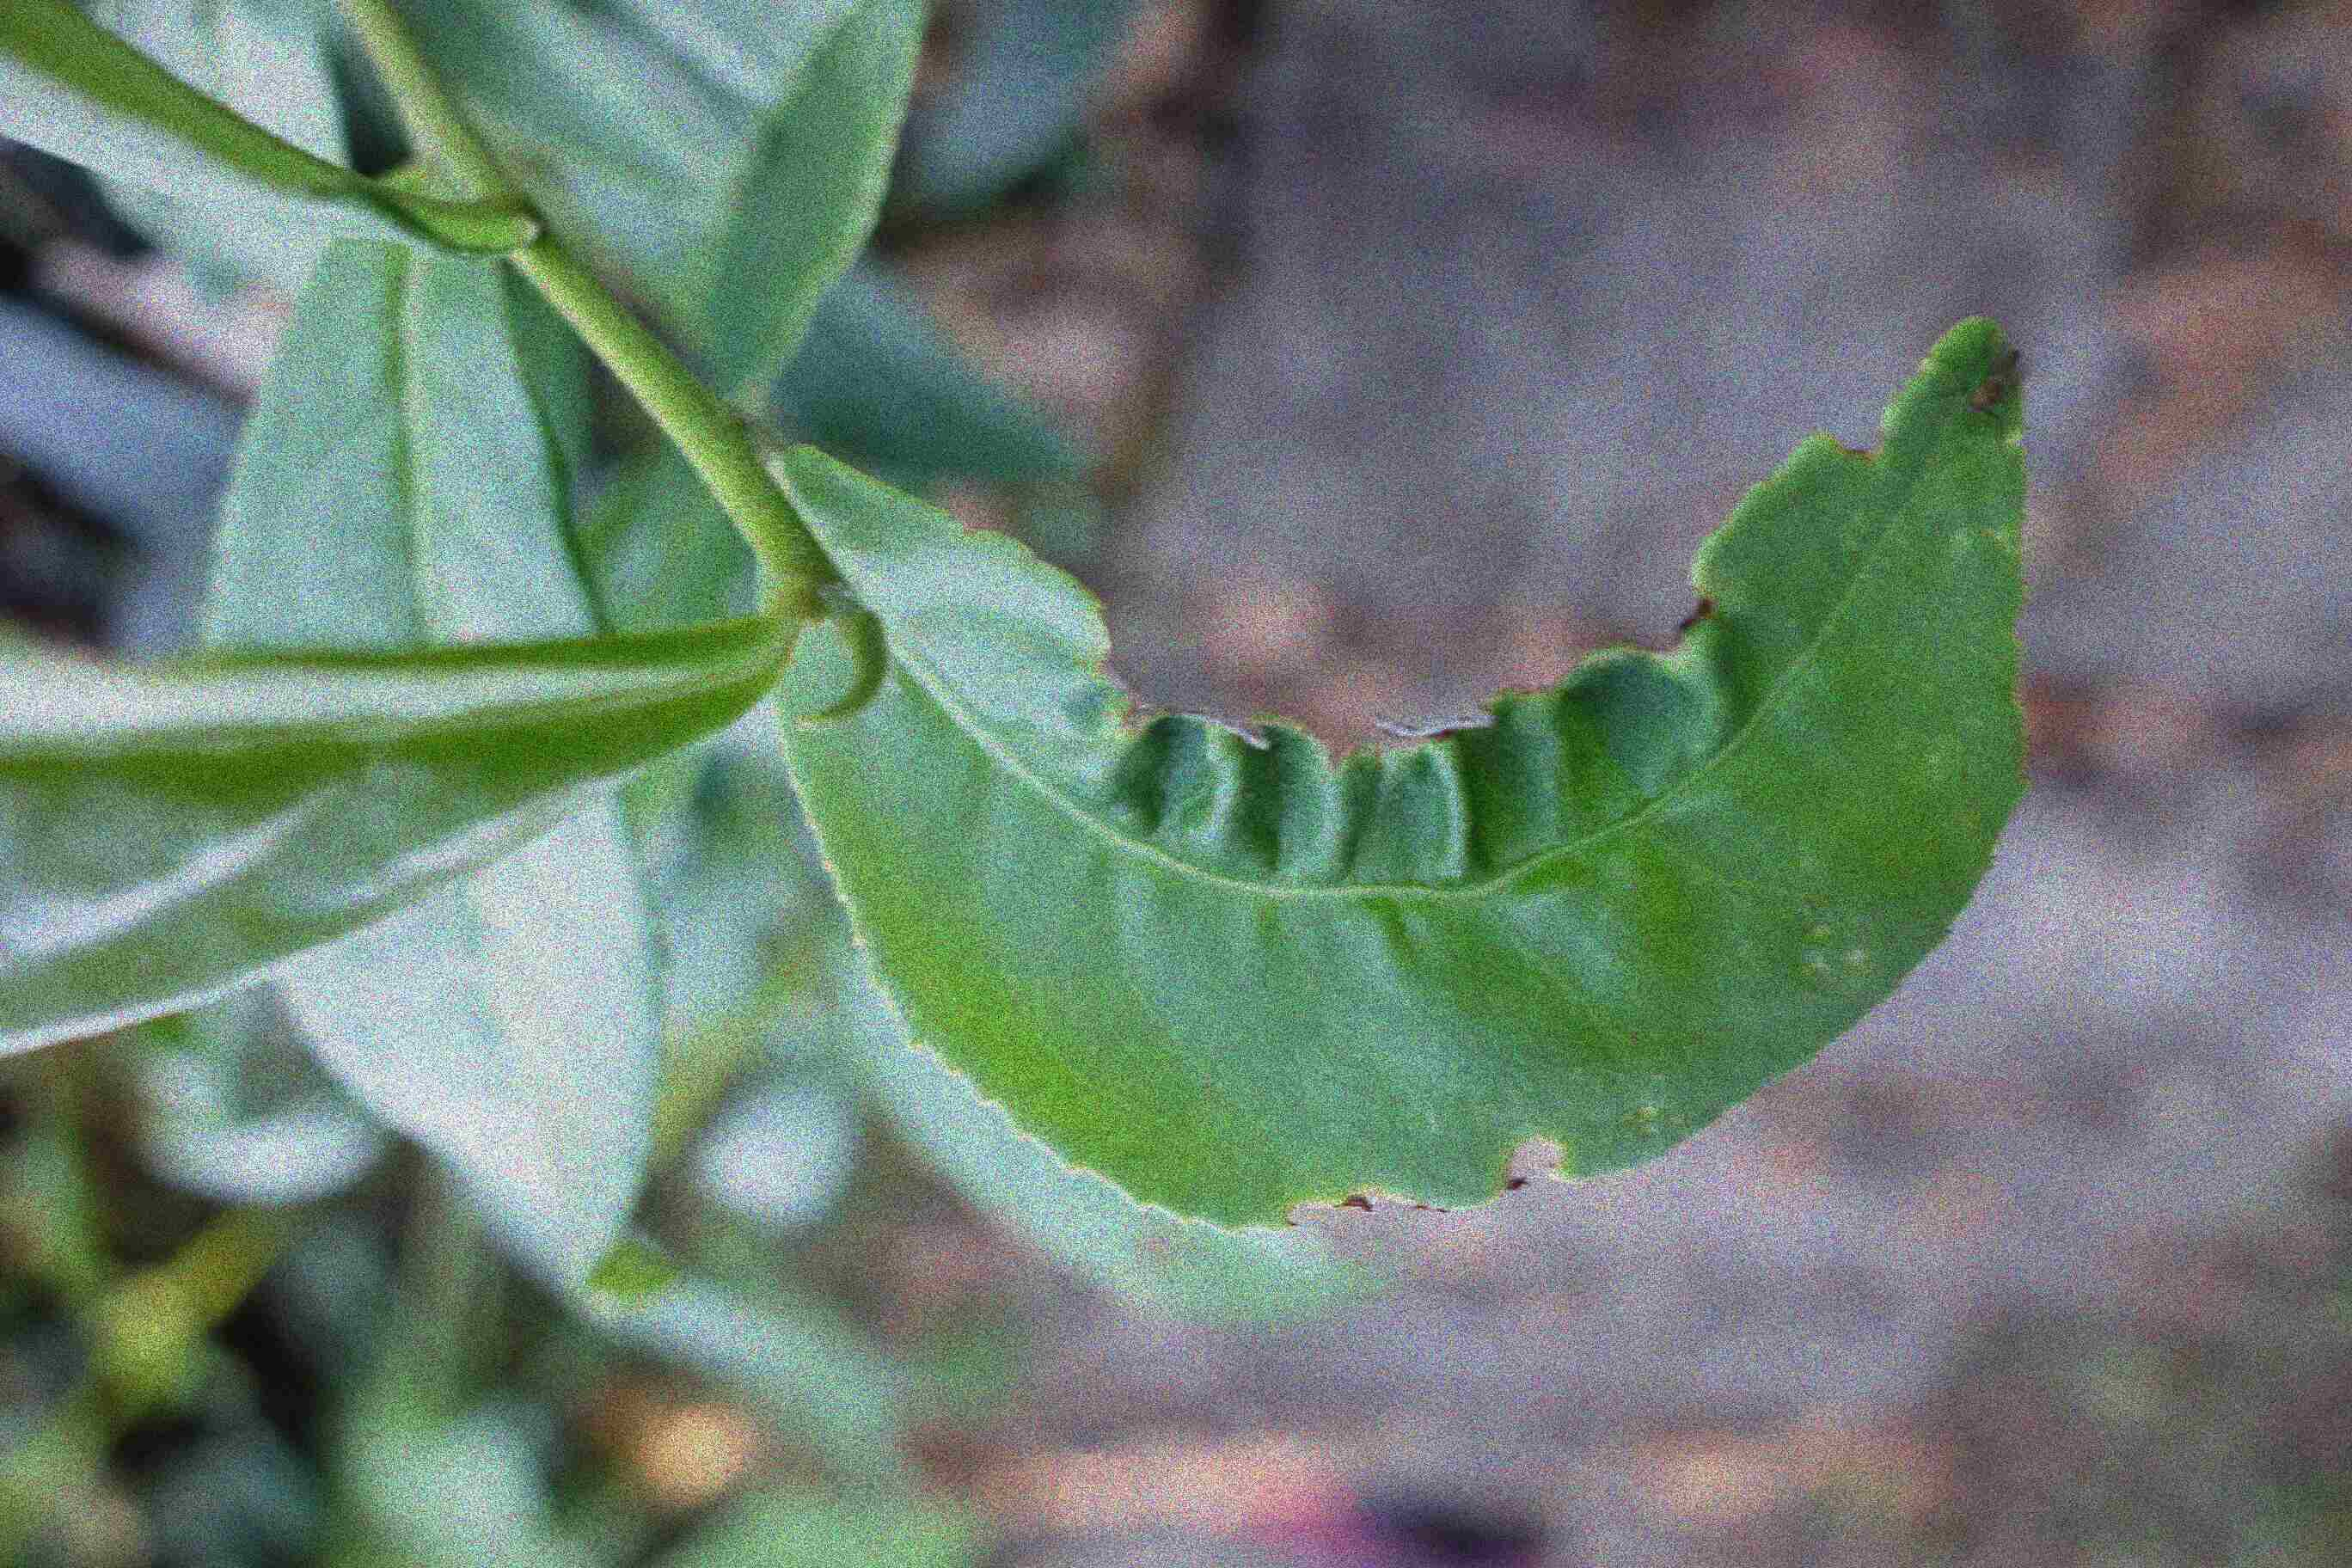chihuo_high: (765, 315, 2035, 1239)
